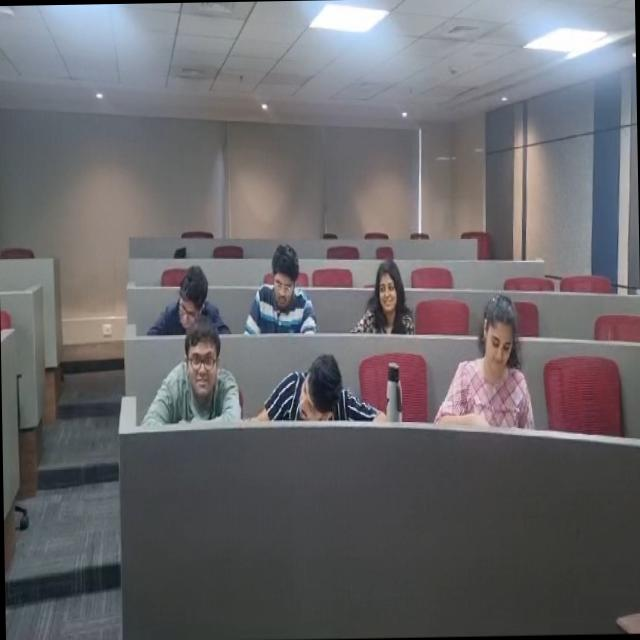cheating: (350, 253, 430, 342), (464, 286, 530, 392), (276, 354, 358, 438)
non-cheating: (253, 242, 316, 340), (175, 324, 232, 406), (168, 256, 222, 335)
